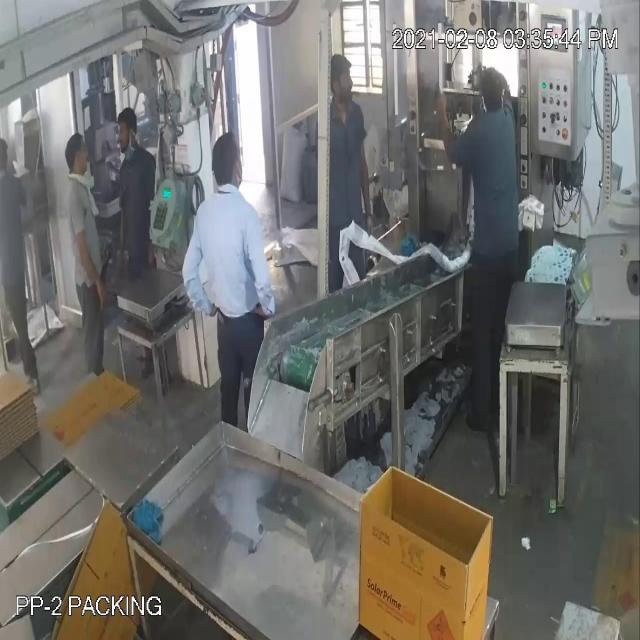No_Gloves: (27, 84, 444, 278)
